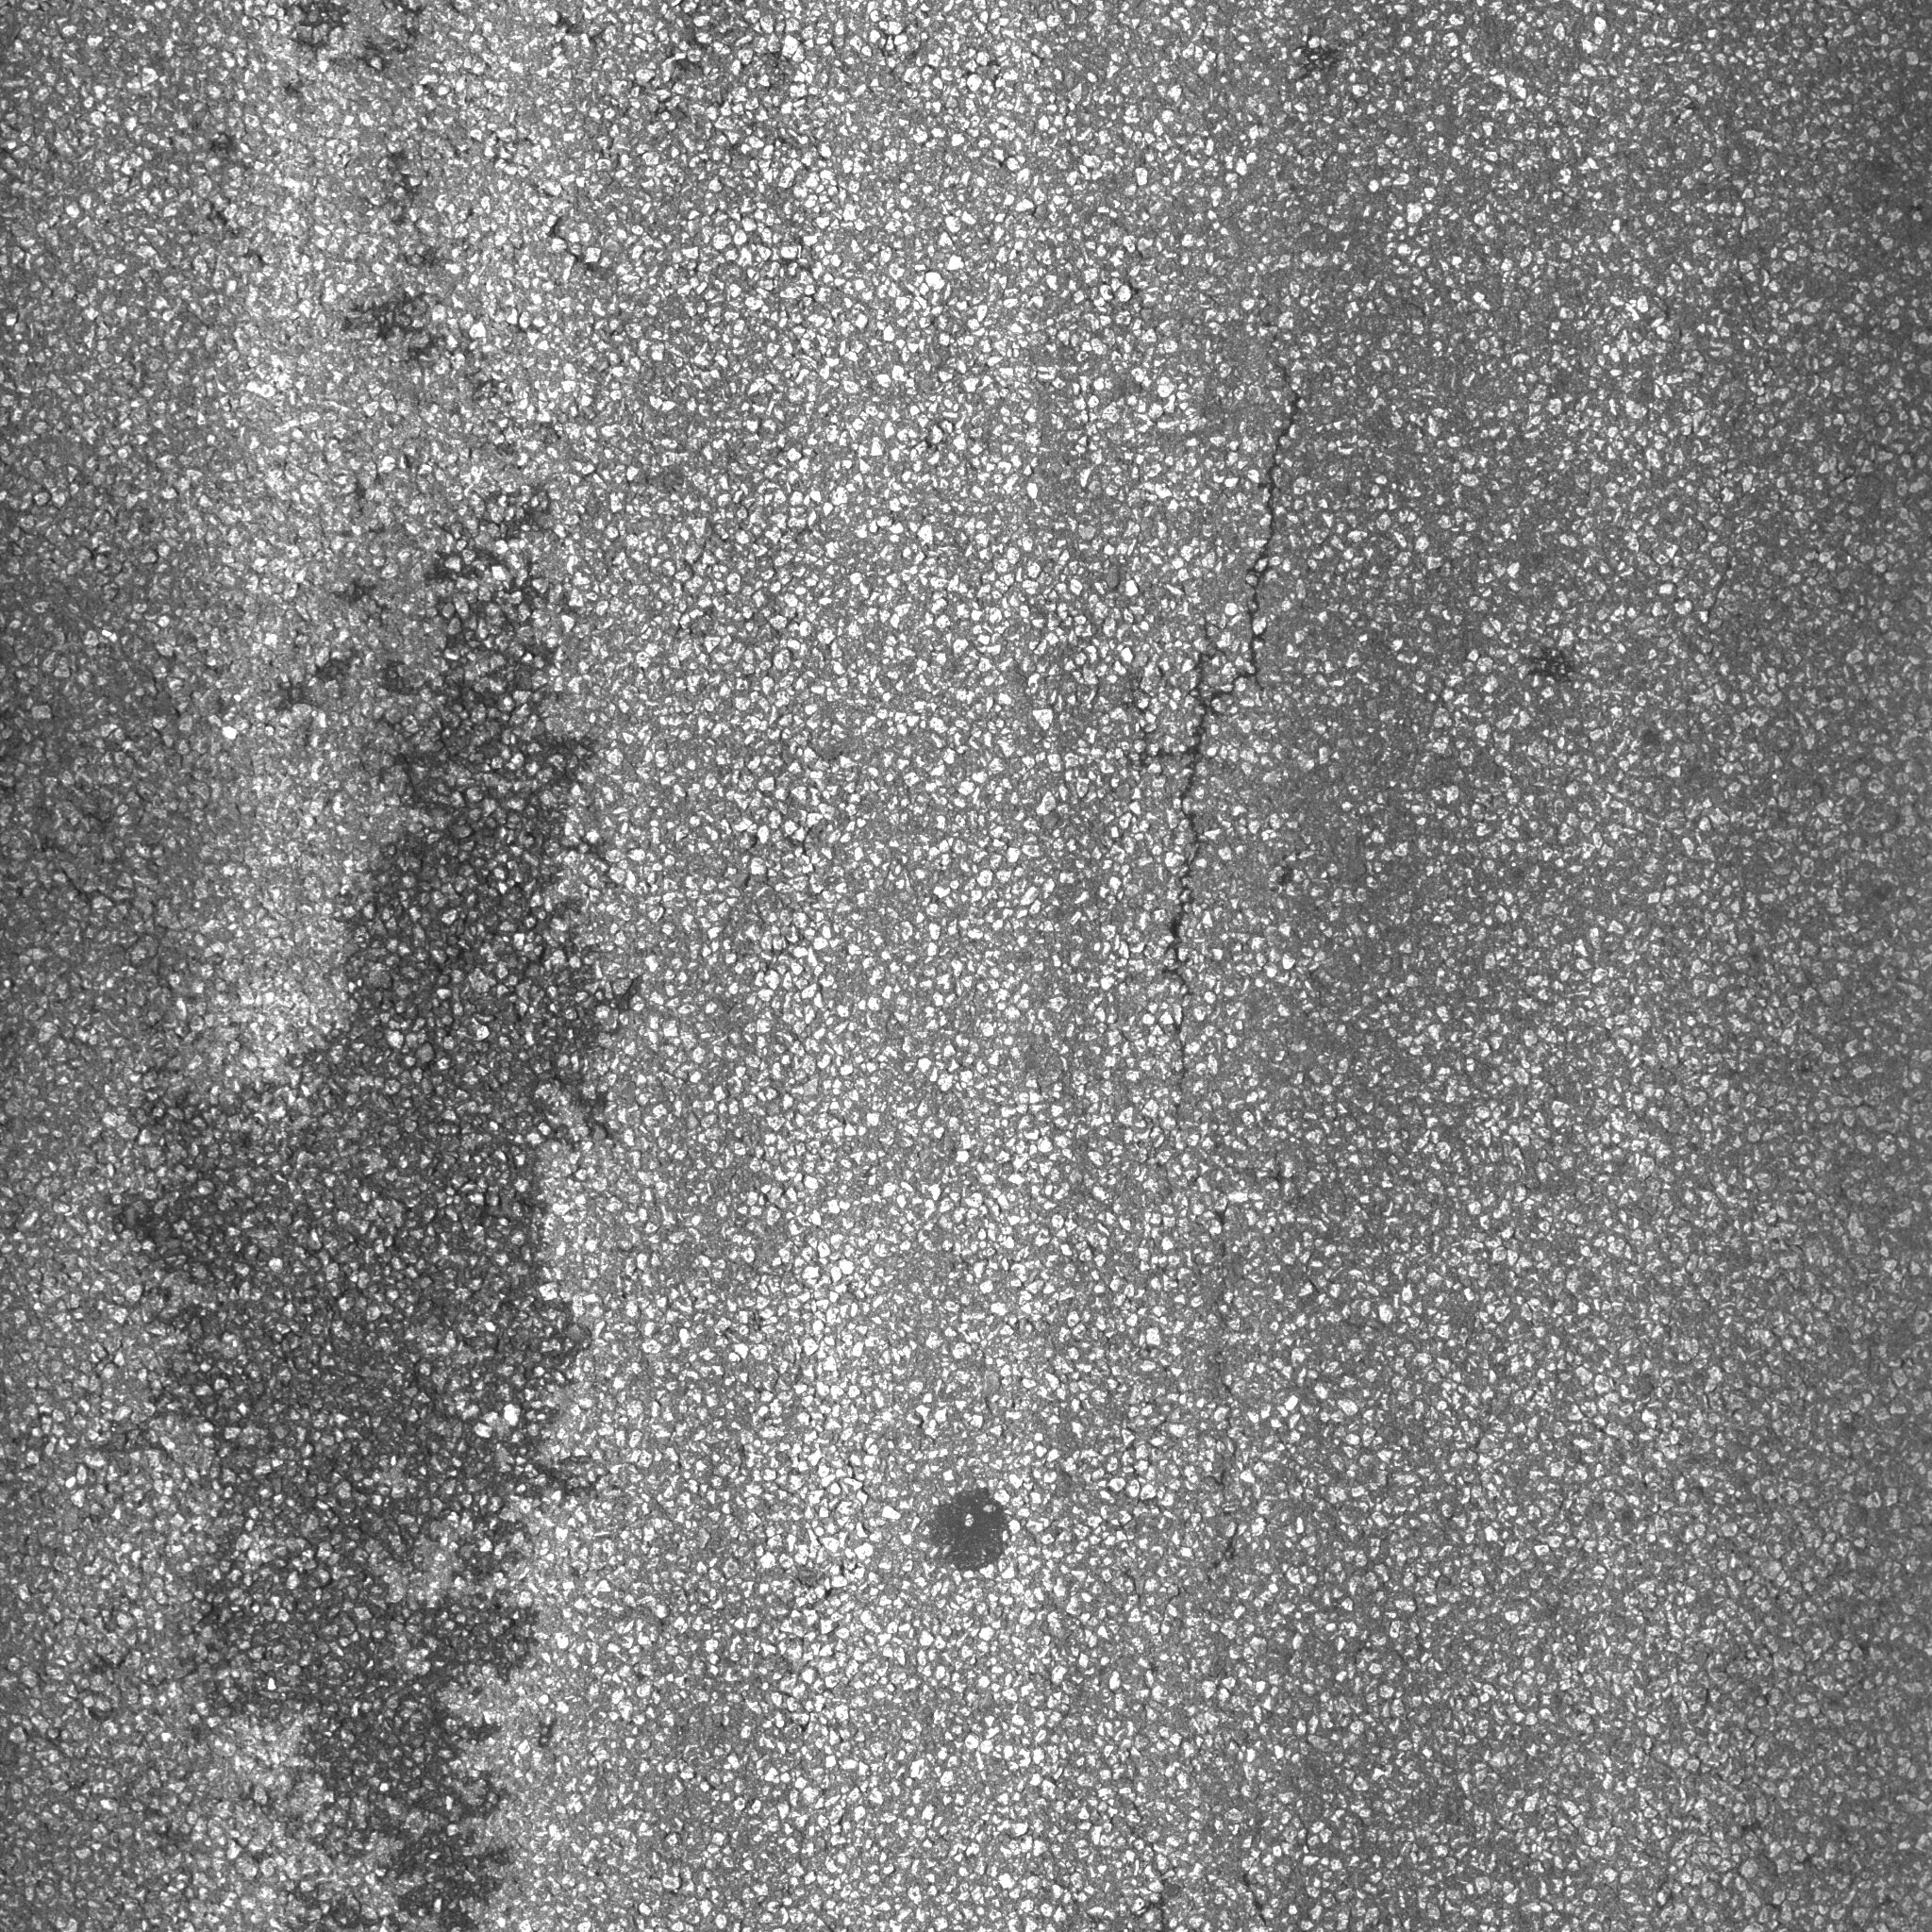longitudinal: (1152, 288, 1336, 1100)
